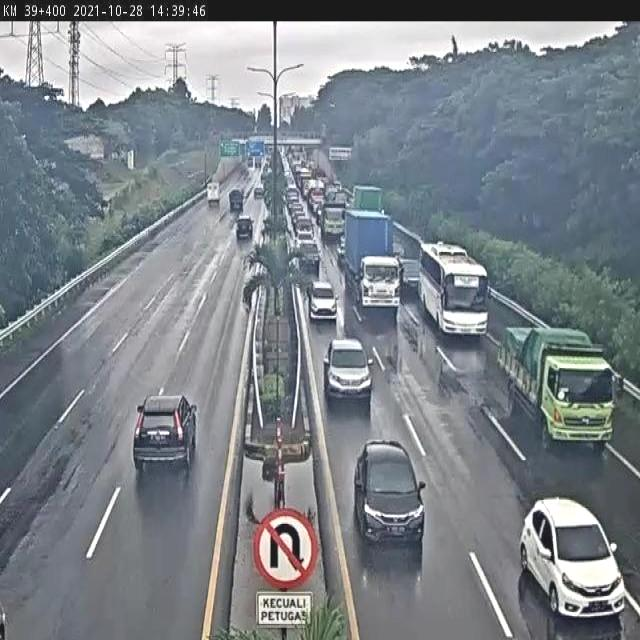Bus: (417, 240, 492, 339)
Car: (519, 497, 624, 617), (353, 441, 427, 547), (133, 392, 200, 478), (322, 334, 372, 405), (308, 279, 338, 321), (396, 254, 420, 293), (297, 242, 321, 270), (294, 230, 317, 250), (236, 215, 253, 240), (336, 235, 346, 265), (254, 186, 264, 198)
Truck: (496, 325, 626, 453), (342, 206, 404, 312), (353, 183, 386, 211), (321, 201, 344, 238), (205, 182, 221, 206), (228, 189, 244, 212)
